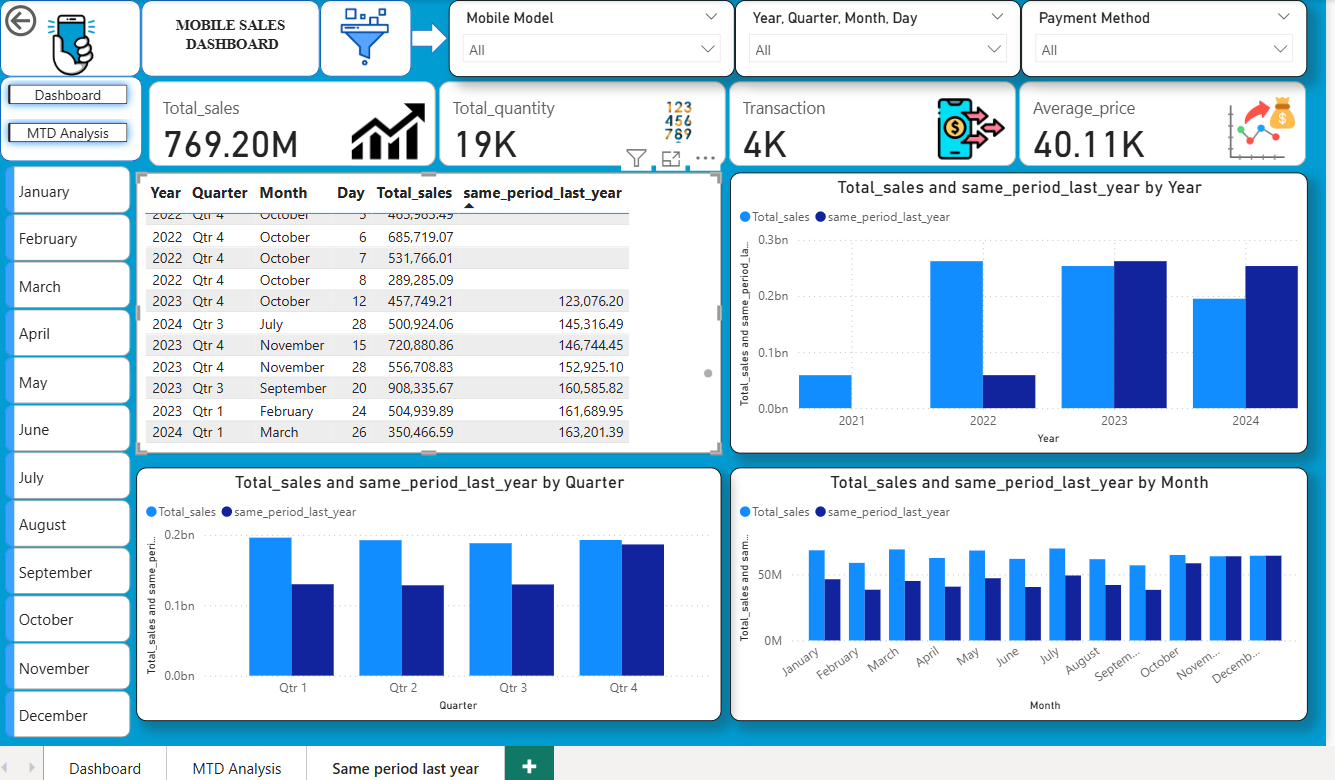

The dashboard page shown, as its layout file describes it:
{"tool":"powerbi","page":{"name":"Same period last year","canvas":[1280,720],"ordinal":2},"visuals":[{"type":"shape","box":[0,0,135.8,74.1],"z":0},{"type":"image","box":[24.7,0,89.2,86.4],"z":1000},{"type":"shape","box":[0,74.1,137.2,82.3],"z":2000},{"type":"cardVisual","fields":{"Data":["mobile sales data.Total_sales","mobile sales data.Total_quantity","mobile sales data.Transaction","mobile sales data.Average_price"]},"box":[138.7,73.6,1130.4,92.9],"z":3000},{"type":"slicer","fields":{"Values":["mobile sales data.Mobile Model"]},"box":[433,0,276.3,74.1],"z":4000},{"type":"slicer","fields":{"Values":["Calendar.Date.Variation.Date Hierarchy.Year","Calendar.Date.Variation.Date Hierarchy.Quarter","Calendar.Date.Variation.Date Hierarchy.Month","Calendar.Date.Variation.Date Hierarchy.Day"]},"box":[709.3,0,276.3,74.1],"z":5000},{"type":"slicer","fields":{"Values":["mobile sales data.Payment Method"]},"box":[985.6,0,276.3,74.1],"z":6000},{"type":"shape","box":[309.1,0,88.3,74.1],"z":7000},{"type":"image","box":[300.5,2.8,104,66.9],"z":8000},{"type":"shape","box":[397.4,19.9,35.6,32.8],"z":9000},{"type":"shape","box":[136.7,0,172.3,74.1],"z":10000},{"type":"textbox","box":[151,10,146.7,52.7],"z":11000},{"type":"actionButton","box":[0,0,100,40],"z":12000},{"type":"advancedSlicerVisual","fields":{"Values":["Calendar.Date.Variation.Date Hierarchy.Month"]},"box":[0,156,131.7,564],"z":13000},{"type":"clusteredColumnChart","fields":{"Category":["Calendar.Date.Variation.Date Hierarchy.Year","Calendar.Date.Variation.Date Hierarchy.Quarter","Calendar.Date.Variation.Date Hierarchy.Month","Calendar.Date.Variation.Date Hierarchy.Day"],"Y":["mobile sales data.Total_sales","mobile sales data.same_period_last_year"]},"box":[704.6,166.5,557.4,271.4],"z":14000},{"type":"clusteredColumnChart","fields":{"Category":["Calendar.Date.Variation.Date Hierarchy.Year","Calendar.Date.Variation.Date Hierarchy.Quarter","Calendar.Date.Variation.Date Hierarchy.Month","Calendar.Date.Variation.Date Hierarchy.Day"],"Y":["mobile sales data.Total_sales","mobile sales data.same_period_last_year"]},"box":[704.6,451.2,557.4,244.9],"z":15000},{"type":"clusteredColumnChart","fields":{"Category":["Calendar.Date.Variation.Date Hierarchy.Year","Calendar.Date.Variation.Date Hierarchy.Quarter","Calendar.Date.Variation.Date Hierarchy.Month","Calendar.Date.Variation.Date Hierarchy.Day"],"Y":["mobile sales data.Total_sales","mobile sales data.same_period_last_year"]},"box":[131.5,451.2,564.6,244.9],"z":16000},{"type":"tableEx","fields":{"Values":["Calendar.Date.Variation.Date Hierarchy.Year","Calendar.Date.Variation.Date Hierarchy.Quarter","Calendar.Date.Variation.Date Hierarchy.Month","Calendar.Date.Variation.Date Hierarchy.Day","mobile sales data.Total_sales","mobile sales data.same_period_last_year"]},"box":[131.5,166.5,564.6,271.4],"z":17000},{"type":"pageNavigator","box":[0,73.6,131.5,73.6],"z":17001}]}

Visuals, with their boxes in screenshot pixels (x1, y1, x2, y2):
shape: {"left": 0, "top": 0, "right": 140, "bottom": 76}
image: {"left": 25, "top": 0, "right": 117, "bottom": 89}
shape: {"left": 0, "top": 76, "right": 141, "bottom": 161}
cardVisual - mobile sales data.Total_sales x mobile sales data.Total_quantity: {"left": 143, "top": 76, "right": 1305, "bottom": 171}
slicer - mobile sales data.Mobile Model: {"left": 445, "top": 0, "right": 730, "bottom": 76}
slicer - Calendar.Date.Variation.Date Hierarchy.Year x Calendar.Date.Variation.Date Hierarchy.Quarter: {"left": 730, "top": 0, "right": 1014, "bottom": 76}
slicer - mobile sales data.Payment Method: {"left": 1014, "top": 0, "right": 1298, "bottom": 76}
shape: {"left": 318, "top": 0, "right": 409, "bottom": 76}
image: {"left": 309, "top": 3, "right": 416, "bottom": 72}
shape: {"left": 409, "top": 20, "right": 445, "bottom": 54}
shape: {"left": 141, "top": 0, "right": 318, "bottom": 76}
textbox: {"left": 155, "top": 10, "right": 306, "bottom": 64}
actionButton: {"left": 0, "top": 0, "right": 103, "bottom": 41}
advancedSlicerVisual - Calendar.Date.Variation.Date Hierarchy.Month: {"left": 0, "top": 160, "right": 135, "bottom": 741}
clusteredColumnChart - Calendar.Date.Variation.Date Hierarchy.Year x Calendar.Date.Variation.Date Hierarchy.Quarter: {"left": 725, "top": 171, "right": 1298, "bottom": 450}
clusteredColumnChart - Calendar.Date.Variation.Date Hierarchy.Year x Calendar.Date.Variation.Date Hierarchy.Quarter: {"left": 725, "top": 464, "right": 1298, "bottom": 716}
clusteredColumnChart - Calendar.Date.Variation.Date Hierarchy.Year x Calendar.Date.Variation.Date Hierarchy.Quarter: {"left": 135, "top": 464, "right": 716, "bottom": 716}
tableEx - Calendar.Date.Variation.Date Hierarchy.Year x Calendar.Date.Variation.Date Hierarchy.Quarter: {"left": 135, "top": 171, "right": 716, "bottom": 450}
pageNavigator: {"left": 0, "top": 76, "right": 135, "bottom": 151}
